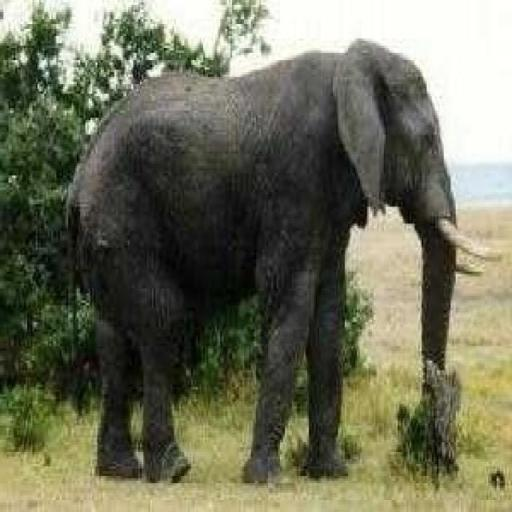Elephant: (63, 36, 500, 486)
